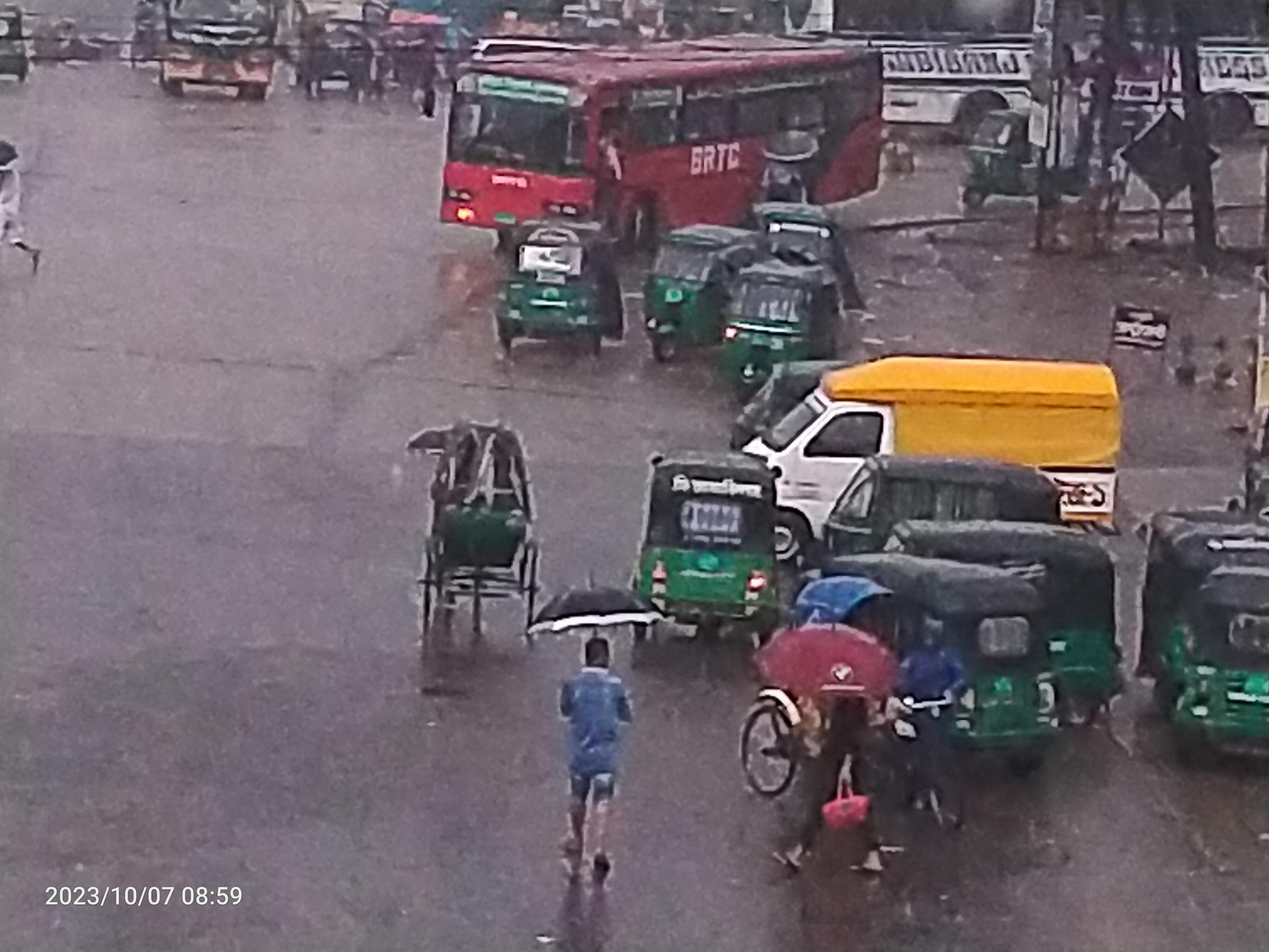Bus: (384, 25, 920, 272), (847, 12, 1083, 176), (1075, 9, 1269, 172), (121, 0, 307, 130)
Car: (722, 607, 993, 838), (381, 402, 567, 669)
